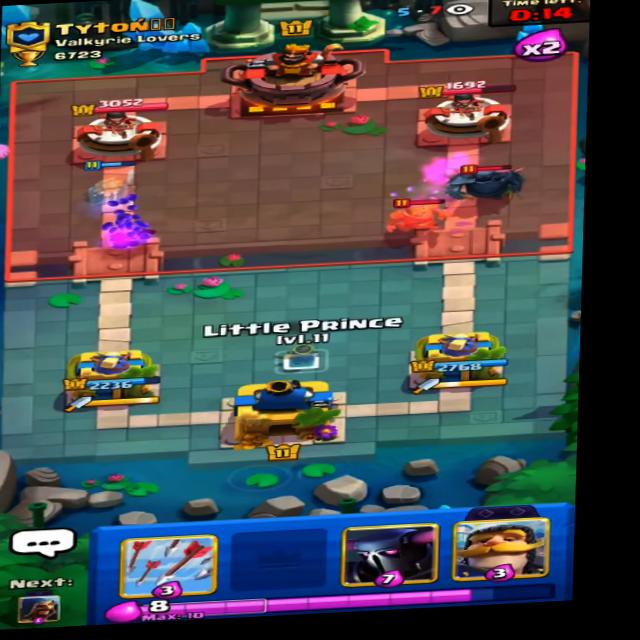knight: (382, 188, 449, 238)
pekka: (444, 157, 535, 207)
